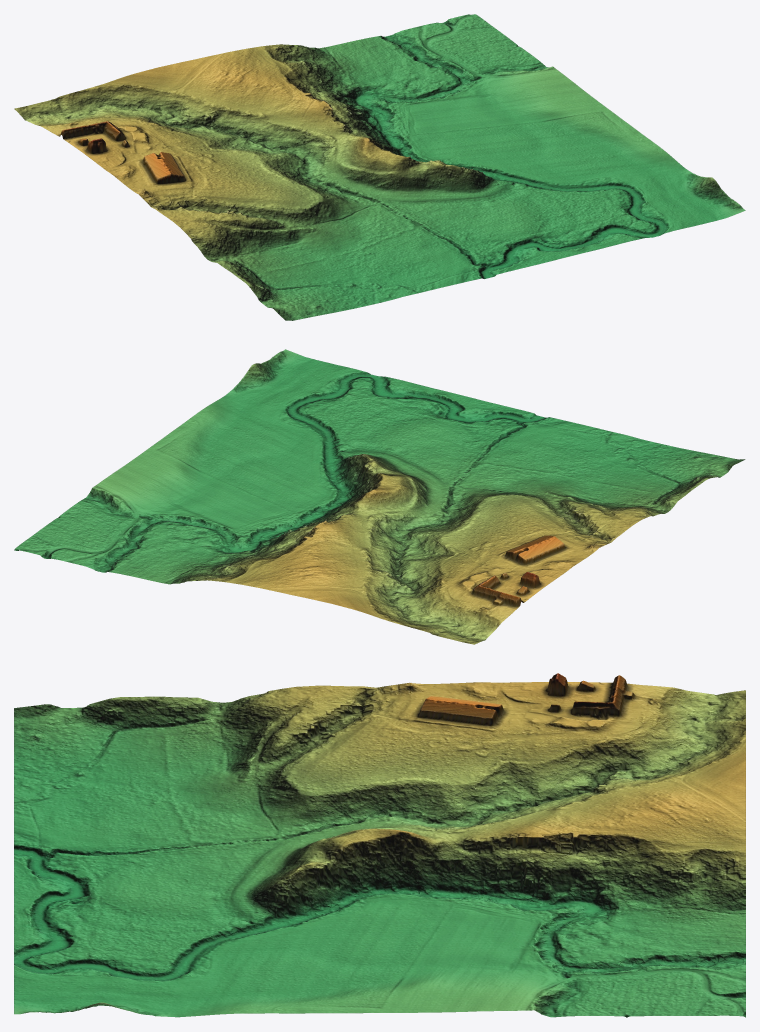
Rendered from simenai.glb.
The picture shows the model from 3 angles, top to bottom: view 1: azimuth 30°, elevation 25°; view 2: azimuth 150°, elevation 25°; view 3: azimuth 270°, elevation 25°; orthographic projection. The views are drawn at different scales.
Visible parts, largest first — view 1: Object_2; view 2: Object_2; view 3: Object_2.
Part boxes in pixels (x1,y1,x2,y2): Object_2: [14, 14, 745, 320]; Object_2: [14, 349, 745, 644]; Object_2: [14, 673, 745, 1017].
Bounding box in the file's own units: 2567 × 201 × 2620.
1 material, 1 textured.
